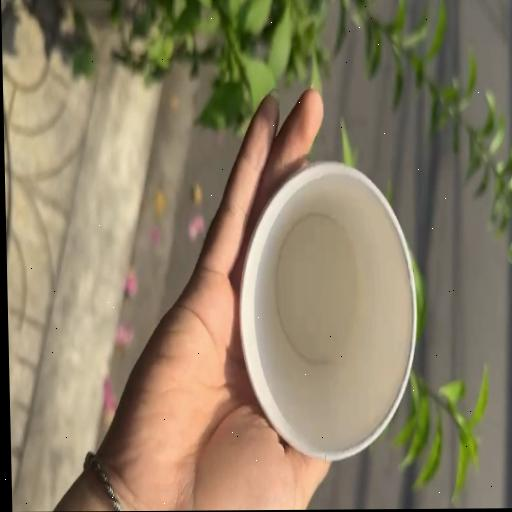Ly_giay: (238, 163, 417, 461)
